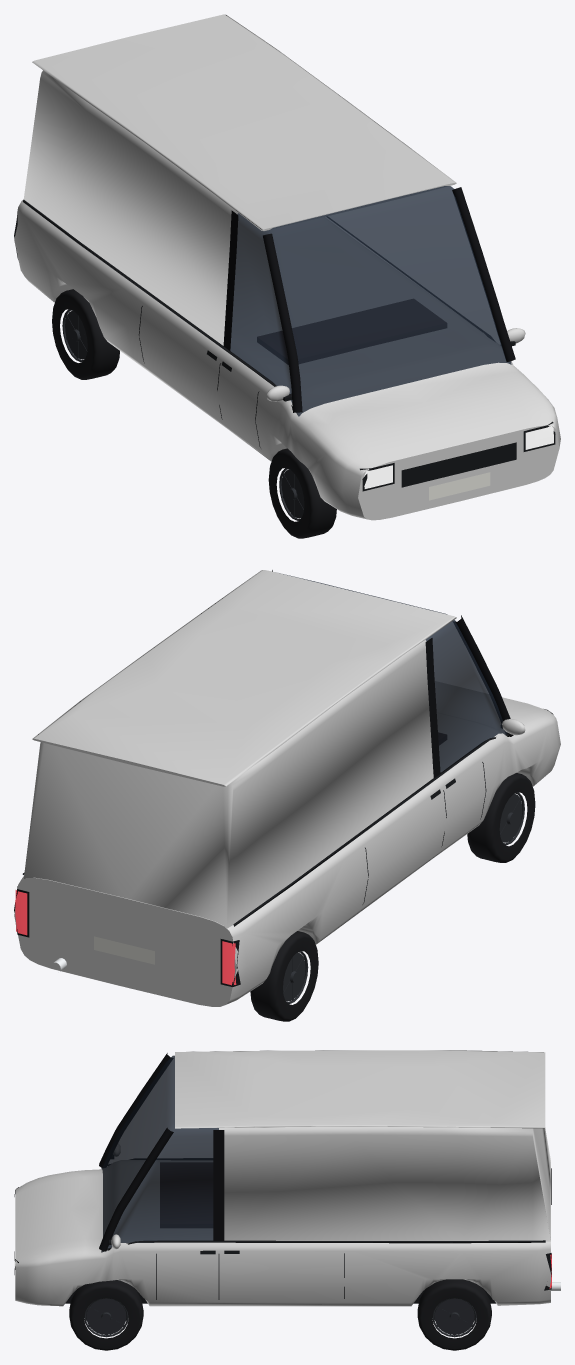
The model's file is norda_workmate.lod.glb.
The picture shows the model from 3 angles, top to bottom: view 1: azimuth 30°, elevation 25°; view 2: azimuth 150°, elevation 25°; view 3: azimuth 270°, elevation 25°; orthographic projection. The views are drawn at different scales.
Parts seen in each view (by area): view 1: body_paint, body_glass, body_trim, tire (×2), body_pillar, rim (×2), headlights; view 2: body_paint, body_glass, tire (×2), body_trim, body_pillar, rim (×2), taillights; view 3: body_paint, body_glass, tire (×2), body_trim, body_pillar, rim (×2).
Part boxes in pixels (x1,y1,x2,y2): body_paint: (14, 14, 560, 520); body_glass: (230, 186, 511, 416); body_trim: (14, 200, 555, 500); tire (×2): (52, 289, 336, 538); body_pillar: (223, 187, 515, 412); rim (×2): (62, 309, 304, 520); headlights: (363, 425, 553, 488); body_paint: (14, 570, 560, 1006); body_glass: (279, 573, 507, 772); tire (×2): (250, 773, 535, 1021); body_trim: (14, 709, 553, 986); body_pillar: (272, 570, 513, 777); rim (×2): (283, 792, 524, 1004); taillights: (15, 890, 236, 985); body_paint: (15, 1050, 550, 1306); body_glass: (101, 1055, 218, 1252); tire (×2): (69, 1279, 491, 1350); body_trim: (14, 1158, 551, 1303); body_pillar: (99, 1053, 224, 1251); rim (×2): (84, 1298, 476, 1337).
Size of the model in its own units: 2.2 by 2.23 by 5.
